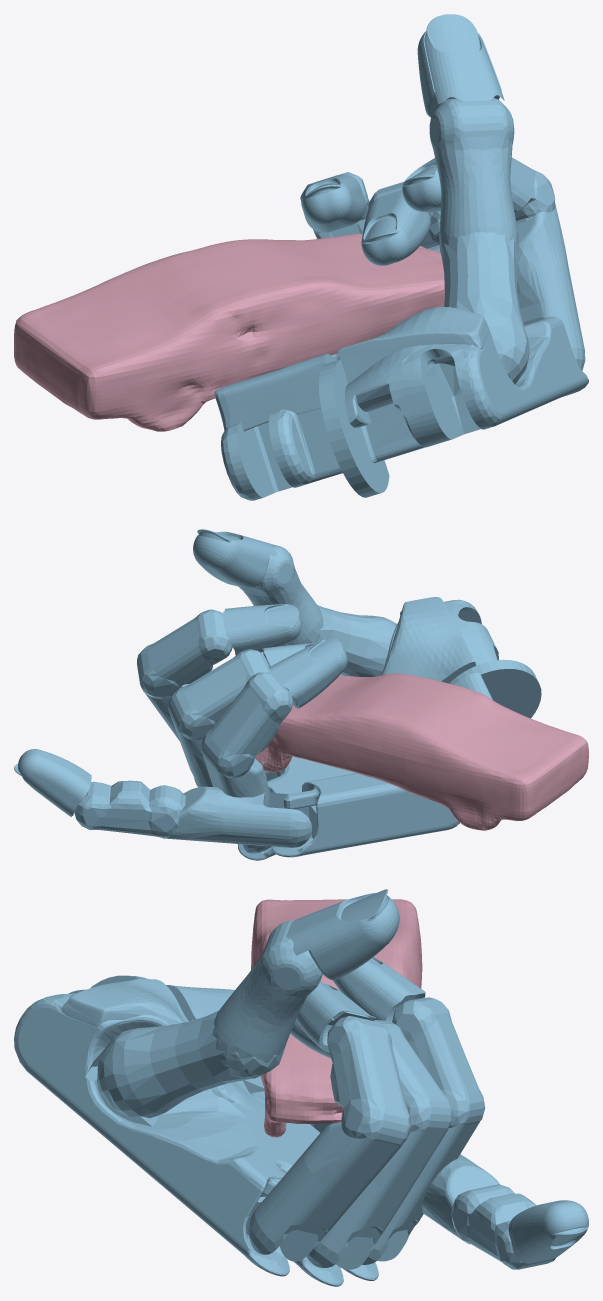
The picture shows the model from 3 angles, top to bottom: view 1: azimuth 30°, elevation 25°; view 2: azimuth 150°, elevation 25°; view 3: azimuth 270°, elevation 25°; orthographic projection. The views are drawn at different scales.
Visible parts, largest first — view 1: hand, world; view 2: hand, world; view 3: hand, world.
Boxes of the visible parts, bbox=[...] form: hand: bbox=[214, 14, 588, 500]; world: bbox=[14, 233, 444, 431]; hand: bbox=[14, 529, 541, 860]; world: bbox=[255, 673, 588, 830]; hand: bbox=[14, 889, 588, 1286]; world: bbox=[251, 899, 422, 1137].
Bounding box in the file's own units: 0.1865 × 0.1269 × 0.1628.
